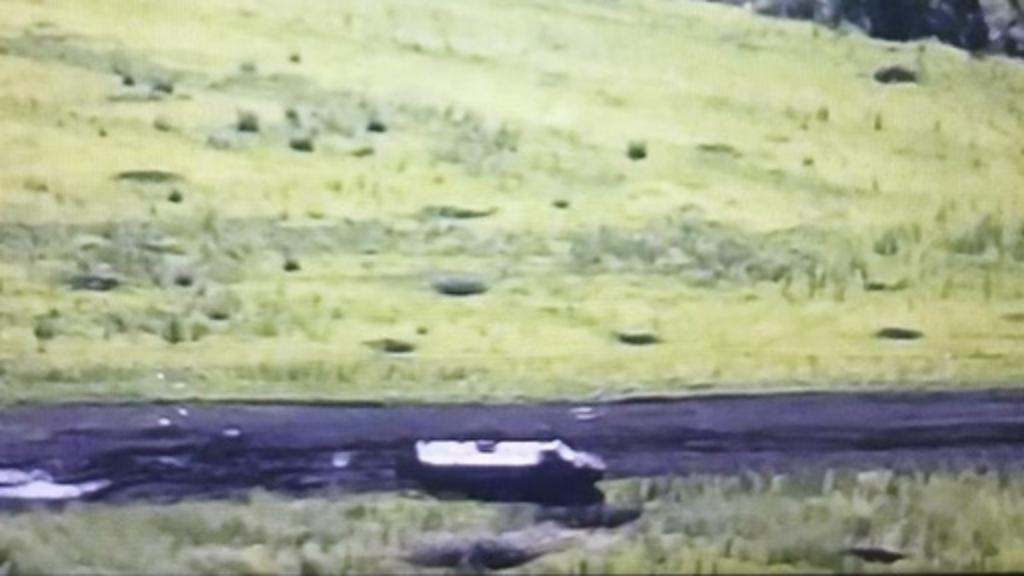APC-IFV: (408, 418, 612, 496)
